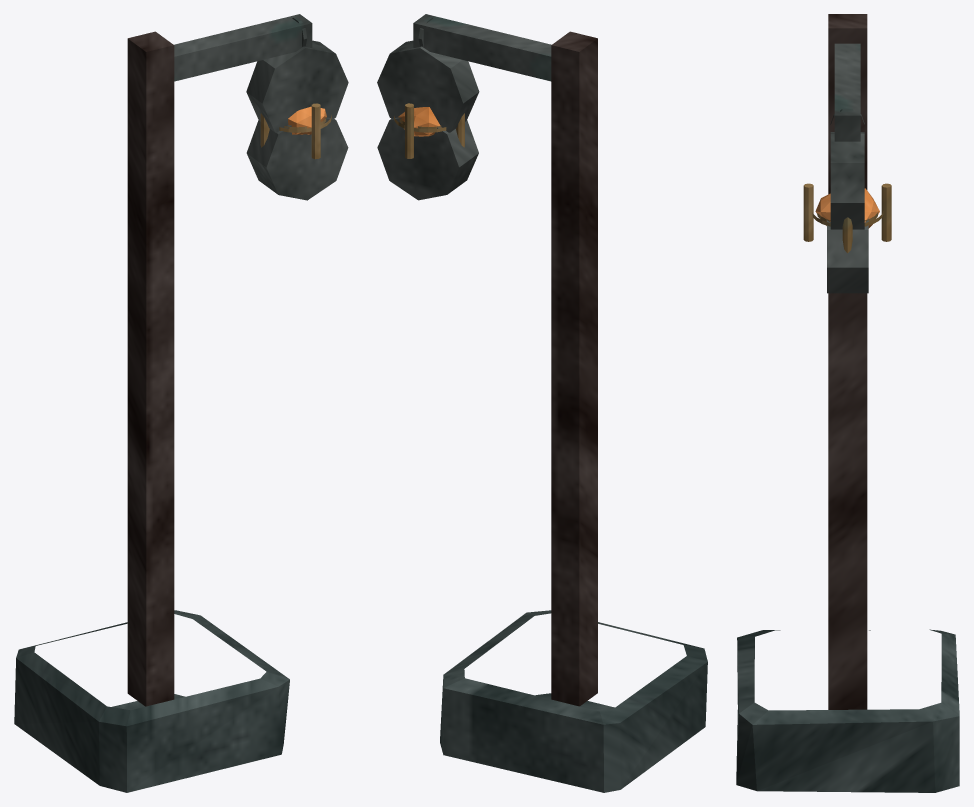
Rendered from 0717_lantern_post_17.glb.
The picture shows the model from 3 angles, left to right: view 1: azimuth 30°, elevation 25°; view 2: azimuth 150°, elevation 25°; view 3: azimuth 270°, elevation 25°; orthographic projection. The views are drawn at different scales.
Parts seen in each view (by area): view 1: wood_dark, stone_dark, iron, brass; view 2: wood_dark, stone_dark, iron, brass, amber; view 3: stone_dark, wood_dark, iron, brass, amber.
Part boxes in pixels (bbox=[...]): wood_dark: bbox=[127, 31, 174, 706]; stone_dark: bbox=[14, 610, 289, 792]; iron: bbox=[174, 14, 348, 200]; brass: bbox=[260, 103, 331, 159]; wood_dark: bbox=[551, 31, 597, 706]; stone_dark: bbox=[440, 610, 707, 792]; iron: bbox=[377, 14, 551, 200]; brass: bbox=[394, 103, 464, 158]; amber: bbox=[398, 107, 441, 136]; stone_dark: bbox=[736, 629, 959, 792]; wood_dark: bbox=[828, 14, 867, 709]; iron: bbox=[827, 43, 868, 293]; brass: bbox=[803, 183, 891, 253]; amber: bbox=[815, 188, 879, 228].
Bounding box in the file's own units: 1.31 × 3.1 × 0.8589.
Materials: 5 (5 with a texture image).
